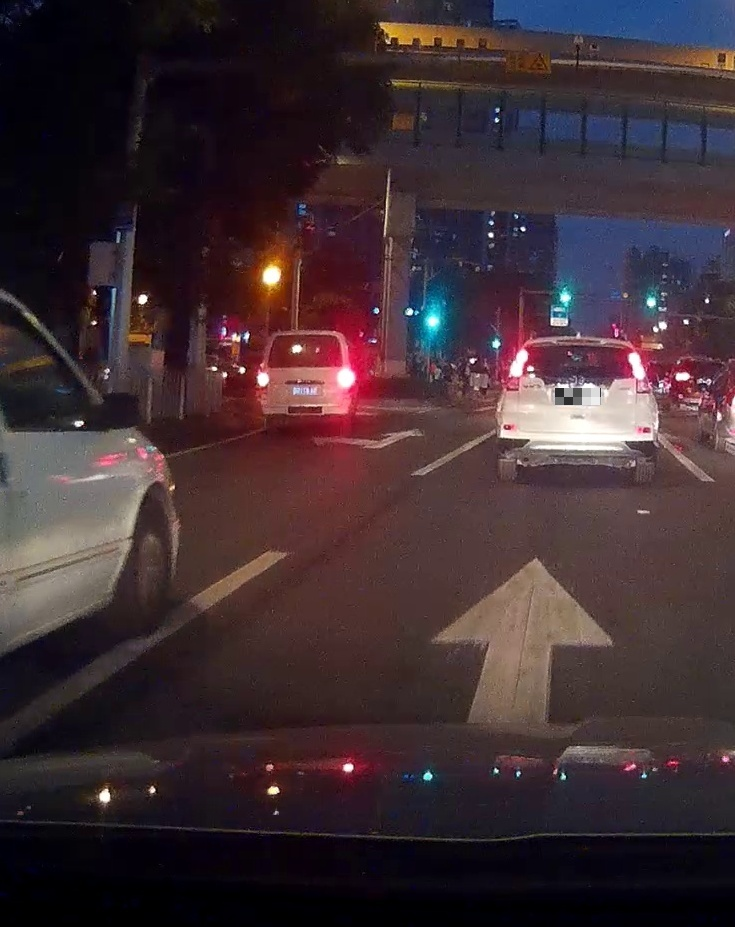L_light: (505, 347, 528, 391), (257, 372, 270, 387)
R_light: (628, 352, 652, 394), (337, 369, 354, 388)
T_light: (556, 339, 601, 344), (300, 334, 315, 337)
night-no: (494, 337, 659, 483), (257, 330, 354, 434)
plate_1: (555, 388, 601, 405)
